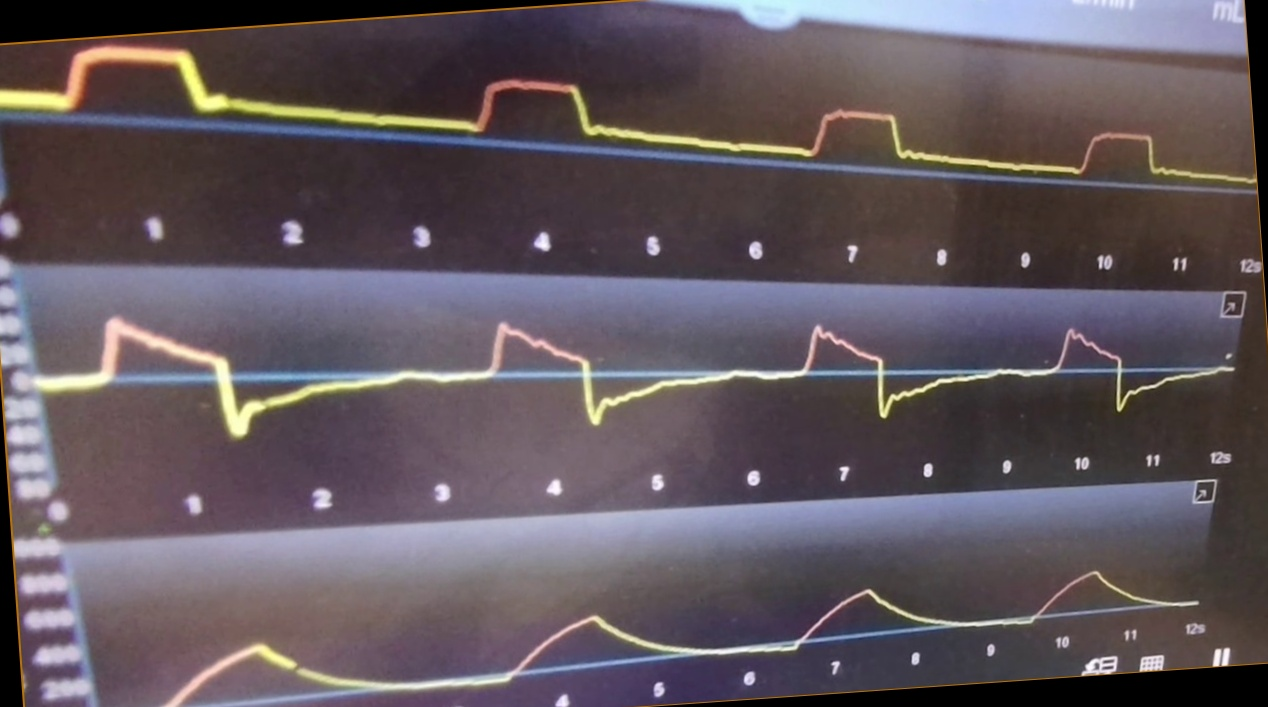Accumulation Flow: (38, 289, 1234, 448)
Volume: (122, 559, 1196, 707)
